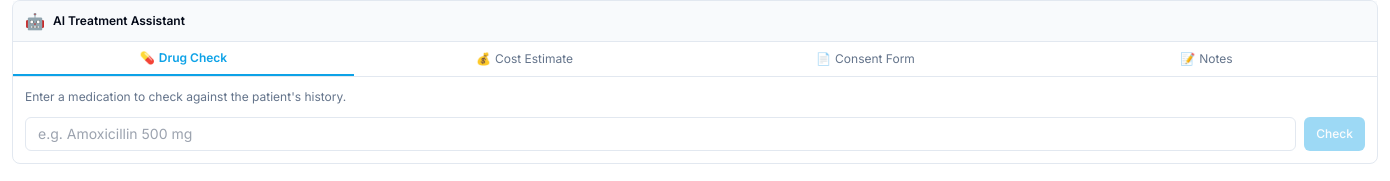
Scenario: TreatmentAssist › switches to Clinical Notes tab and shows expand button
The image size is (1390, 181).
Click the text "Notes": (1216, 59) [1199, 51, 1233, 67]
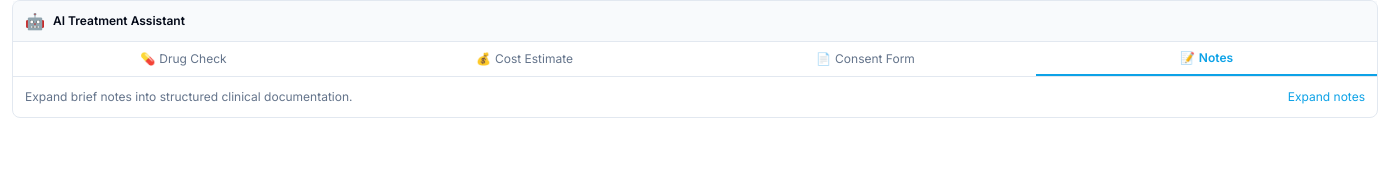
Expected: the button "Expand notes" is shown, [1288, 89, 1365, 105]
Expected: the text "Expand brief notes into structured clinical documentation." is shown, [25, 89, 352, 105]
